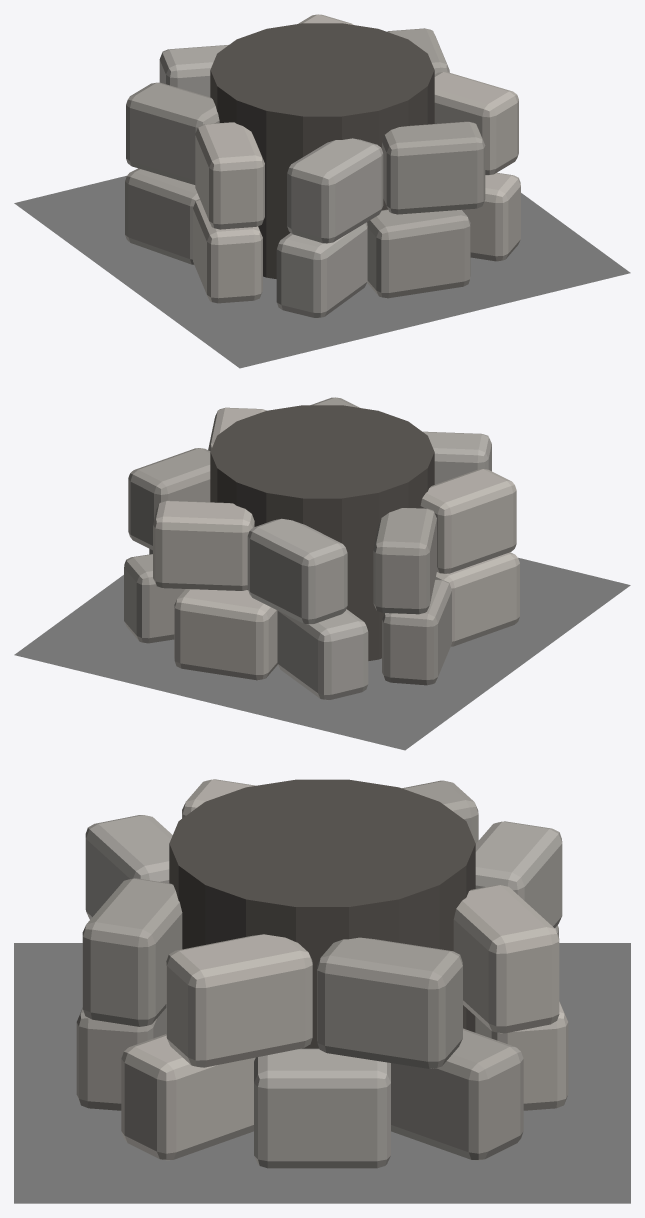
Rendered from well.glb.
3 views of the same model, one above another, from view 1: azimuth 30°, elevation 25°; view 2: azimuth 150°, elevation 25°; view 3: azimuth 270°, elevation 25° (orthographic). The views are drawn at different scales.
Visible parts, largest first — view 1: ContactShadow, innerDark, block.016, block.015, block.008, block.013, block.007, block.014, block.005, block, block.006, block.009 (+2 smaller); view 2: ContactShadow, innerDark, block.012, block.003, block.011, block.014, block.004, block.013, block.005, block.006, block.010, block.002 (+2 smaller); view 3: ContactShadow, innerDark, block, block.010, block.001, block.002, block.011, block.009, block.016, block.012, block.015, block.008 (+3 smaller).
Boxes of the visible parts, <box> form: ContactShadow: <box>14,175,630,368</box>; innerDark: <box>210,23,434,278</box>; block.016: <box>382,121,485,214</box>; block.015: <box>287,138,383,243</box>; block.008: <box>367,209,470,298</box>; block.013: <box>126,82,219,184</box>; block.007: <box>276,222,367,318</box>; block.014: <box>195,122,264,229</box>; block.005: <box>125,168,199,264</box>; block: <box>434,72,518,175</box>; block.006: <box>193,199,262,303</box>; block.009: <box>462,172,520,261</box>; ContactShadow: <box>14,557,630,750</box>; innerDark: <box>210,405,434,660</box>; block.012: <box>247,518,347,624</box>; block.003: <box>174,589,277,680</box>; block.011: <box>153,500,254,590</box>; block.014: <box>420,469,516,573</box>; block.004: <box>277,609,368,700</box>; block.013: <box>373,508,436,614</box>; block.005: <box>382,579,451,685</box>; block.006: <box>435,552,519,646</box>; block.010: <box>128,448,210,550</box>; block.002: <box>124,554,185,643</box>; ContactShadow: <box>14,943,630,1203</box>; innerDark: <box>169,779,475,1048</box>; block: <box>166,934,312,1067</box>; block.010: <box>317,937,462,1068</box>; block.001: <box>254,1048,390,1168</box>; block.002: <box>391,1028,523,1160</box>; block.011: <box>453,885,559,1033</box>; block.009: <box>121,1034,255,1160</box>; block.016: <box>82,878,182,1026</box>; block.012: <box>475,821,562,927</box>; block.015: <box>85,815,172,919</box>; block.008: <box>76,1007,166,1110</box>.
Size of the model in its own units: 1.35 by 0.555 by 1.35.
Materials: 6 (1 with a texture image).
